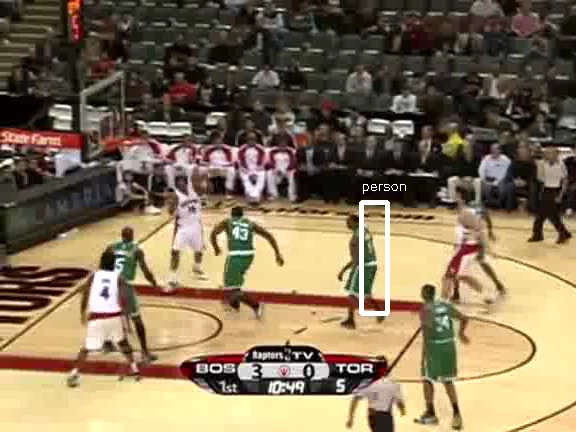person: (349, 220, 383, 301), (348, 220, 382, 301), (350, 220, 384, 301), (349, 219, 383, 300), (349, 221, 383, 302)
target_negative: (496, 128, 531, 400), (164, 165, 192, 388), (436, 185, 475, 241), (509, 191, 525, 320), (144, 179, 262, 195), (93, 116, 280, 118)
